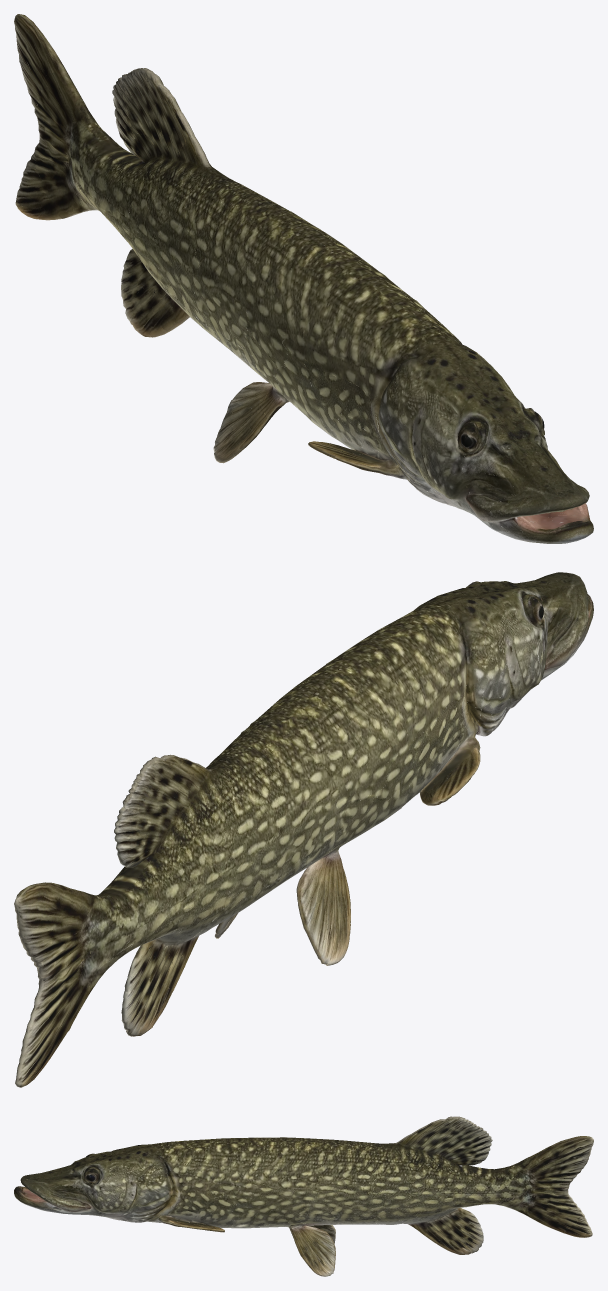
File: szczupak.glb
3 views of the same model, one above another, from view 1: azimuth 30°, elevation 25°; view 2: azimuth 150°, elevation 25°; view 3: azimuth 270°, elevation 25° (orthographic). The views are drawn at different scales.
Visible parts, largest first — view 1: Mesh_0; view 2: Mesh_0; view 3: Mesh_0.
Boxes of the visible parts, bbox=[...] form: Mesh_0: bbox=[14, 14, 593, 543]; Mesh_0: bbox=[14, 572, 593, 1087]; Mesh_0: bbox=[14, 1116, 593, 1276].
Size of the model in its own units: 0.2834 by 0.5262 by 1.9.
1 material, 1 textured.
